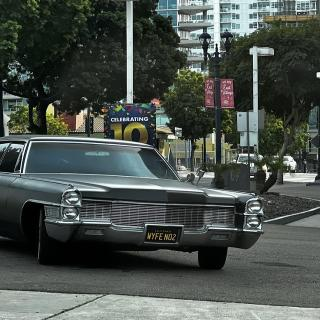license: (146, 228, 181, 244)
